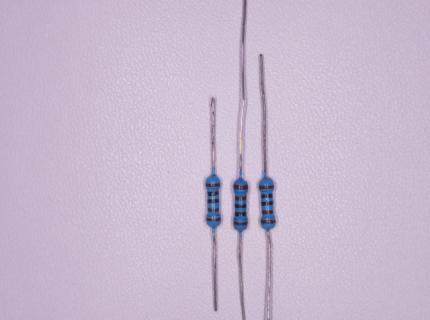Black band: (261, 193, 273, 199), (207, 191, 219, 196), (261, 201, 273, 206), (235, 212, 246, 217), (235, 203, 246, 208), (208, 199, 219, 203)
Brown band: (259, 184, 274, 190), (234, 184, 248, 190), (261, 219, 276, 224), (205, 183, 220, 187), (262, 210, 274, 215), (206, 217, 221, 221), (235, 196, 247, 201), (234, 221, 248, 225), (208, 208, 219, 212)
